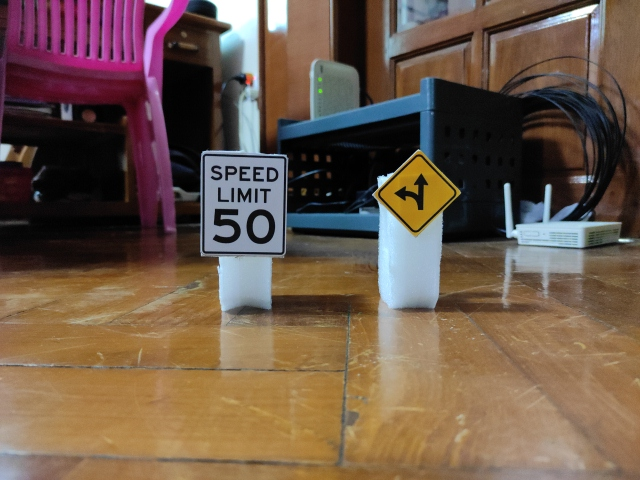Speed Limit 50: (201, 150, 288, 256)
Straight Or Left Sign: (373, 153, 460, 234)
